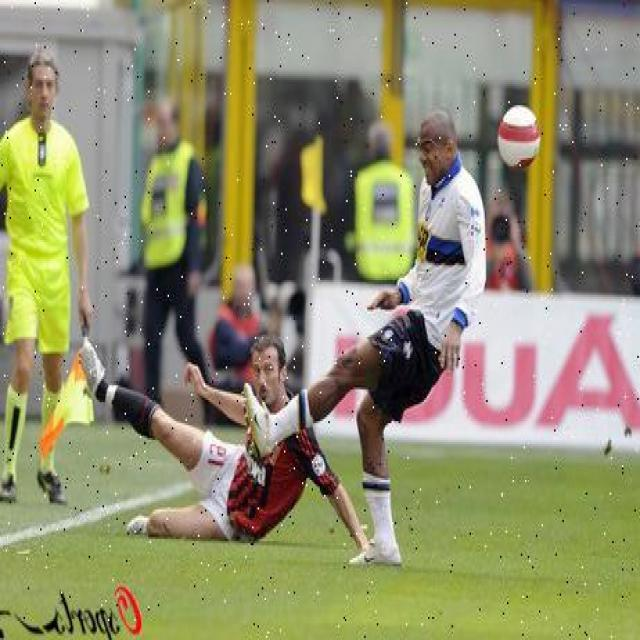fall: (90, 343, 344, 526)
